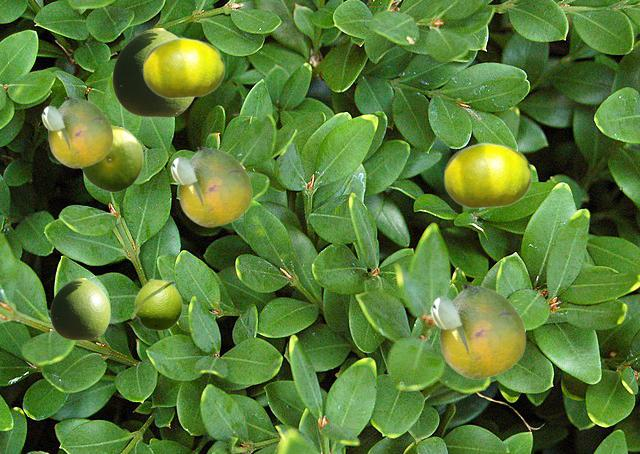dalandan: (430, 285, 525, 378), (112, 28, 194, 116), (170, 147, 251, 226), (443, 142, 531, 208), (142, 37, 224, 98), (41, 97, 112, 167), (81, 125, 142, 191), (50, 278, 109, 339), (130, 278, 182, 330)
